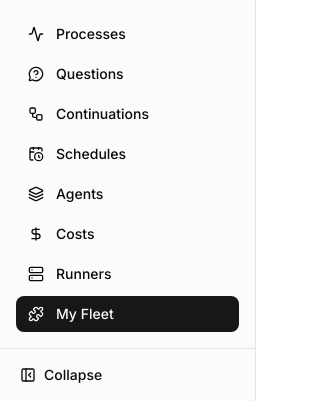
Test case: Sidebar › collapsible › renders a plugin item icon-only when collapsed and highlights it on its route
Click the button with aria-label "Collapse sidebar".
click(128, 375)  # box [8, 357, 247, 393]
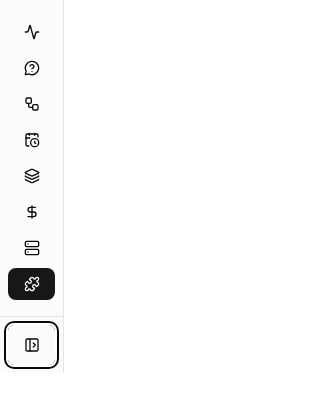
expect the link "My Fleet" is gone: met
